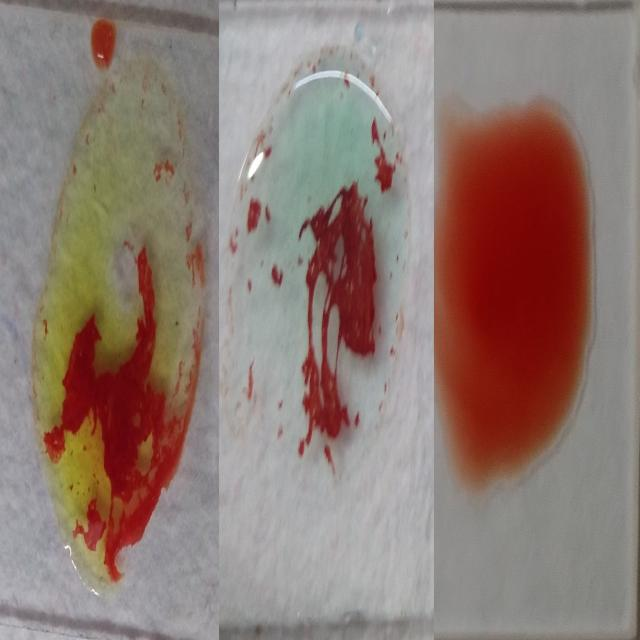A: (234, 50, 411, 483)
B: (38, 67, 205, 574)
